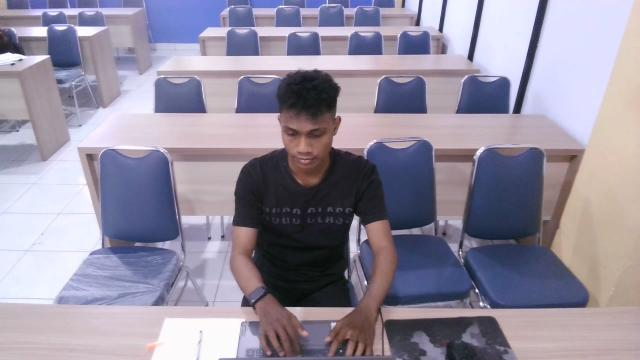Normal_Focus: (212, 55, 404, 360)
